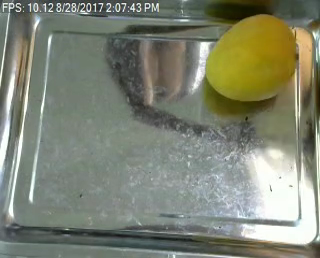Mango: (200, 12, 304, 102)
